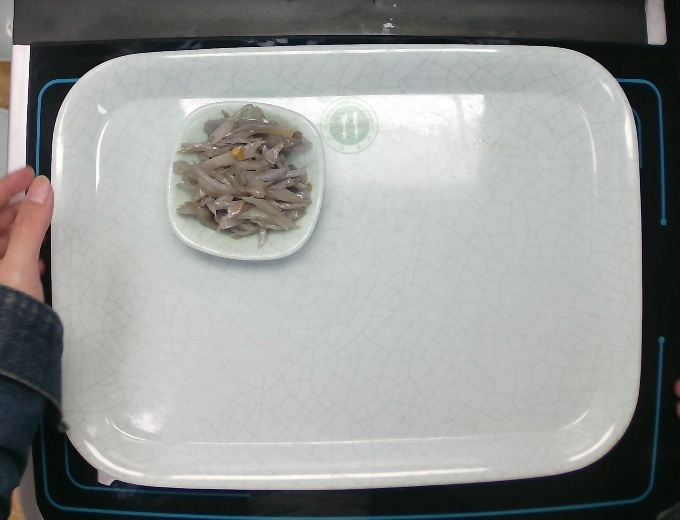JYsf-Si_Fang_Die: (165, 98, 328, 262)
